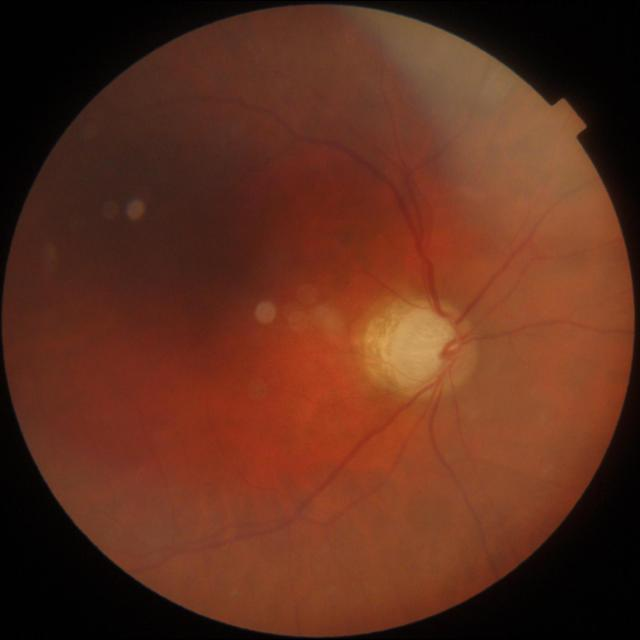OC: (392, 315, 459, 377)
OD: (386, 299, 479, 396)
